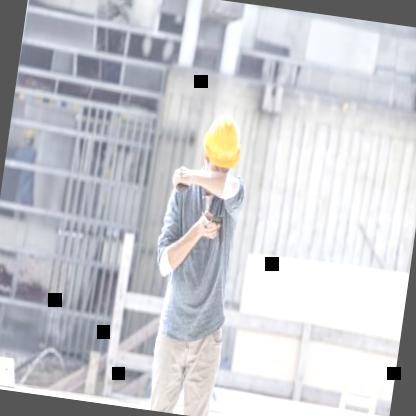helmet: (190, 107, 253, 194)
